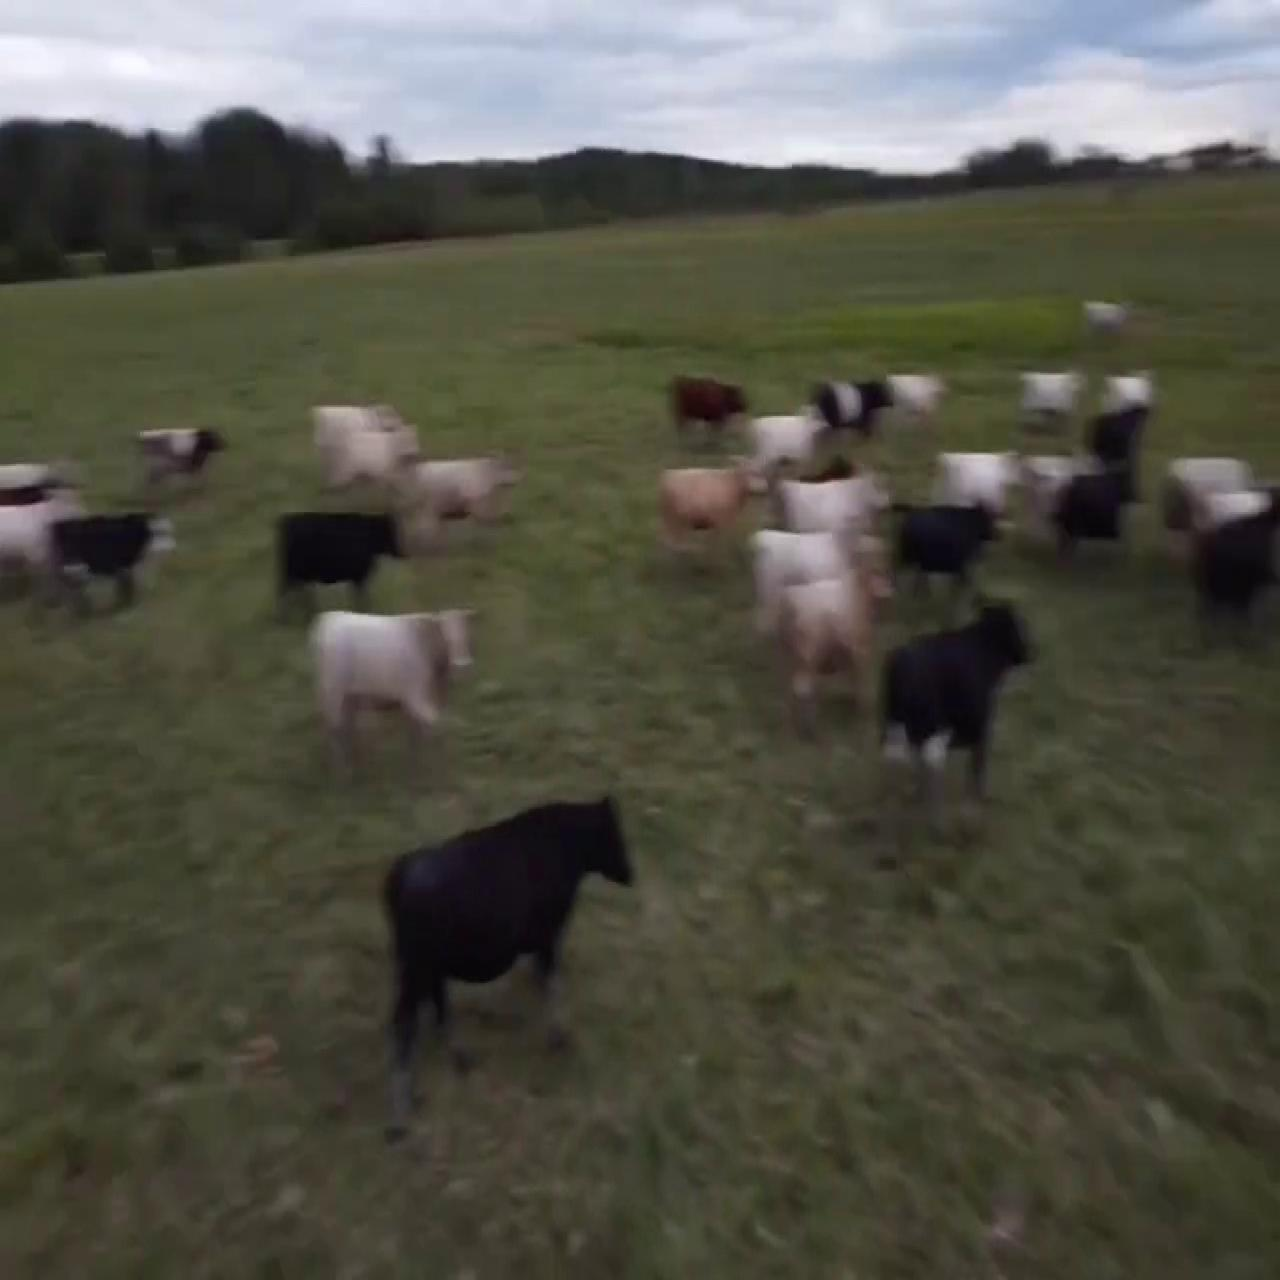cow: (369, 787, 666, 1110), (870, 601, 1043, 804), (309, 606, 495, 770), (781, 553, 888, 745), (748, 531, 873, 674), (41, 499, 172, 615), (644, 443, 760, 560), (273, 510, 402, 613), (306, 396, 430, 501), (772, 457, 885, 550), (394, 454, 518, 536), (898, 509, 1005, 591), (933, 424, 1015, 526), (667, 373, 760, 448), (129, 420, 229, 486)
